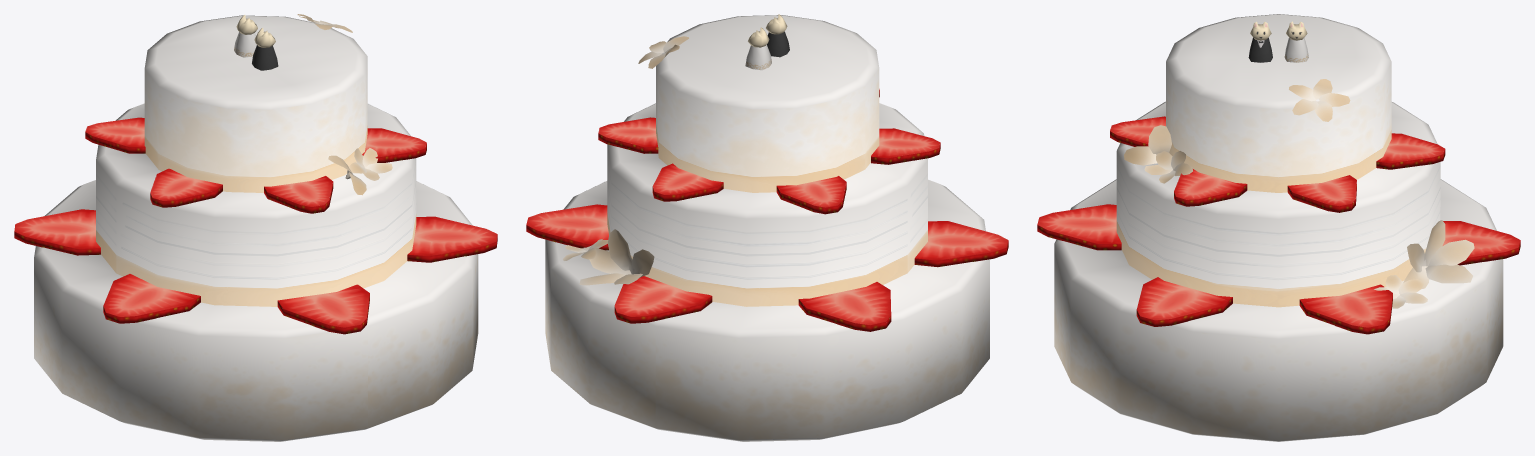
File: cakeStrawberry.gltf
The picture shows the model from 3 angles, left to right: view 1: azimuth 30°, elevation 25°; view 2: azimuth 150°, elevation 25°; view 3: azimuth 270°, elevation 25°; orthographic projection.
Parts seen in each view (by area): view 1: Strawberry.006; view 2: Strawberry.006; view 3: Strawberry.006.
Part boxes in pixels (x1=…): Strawberry.006: x1=14, y1=14, x2=497, y2=441; Strawberry.006: x1=526, y1=14, x2=1008, y2=441; Strawberry.006: x1=1037, y1=14, x2=1520, y2=441.
Size of the model in its own units: 1.83 by 1.47 by 1.96.
